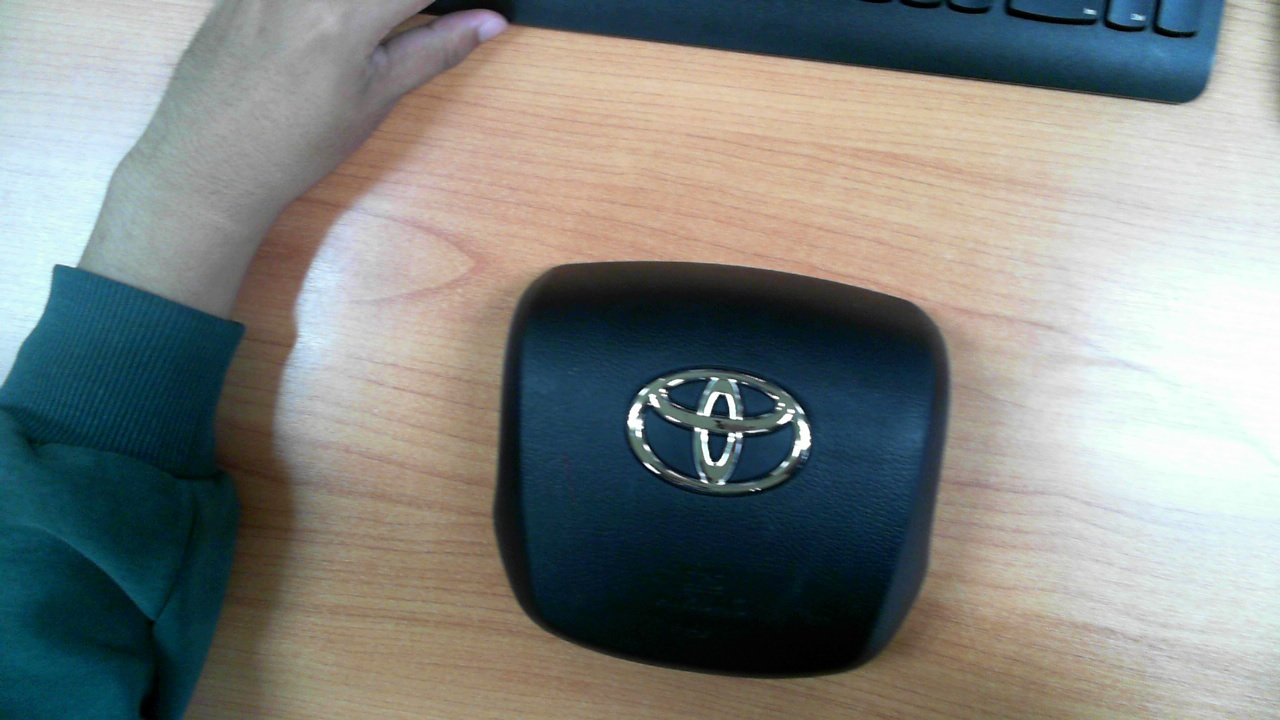Airbag: (492, 260, 953, 680)
Toyota: (627, 369, 811, 493)
